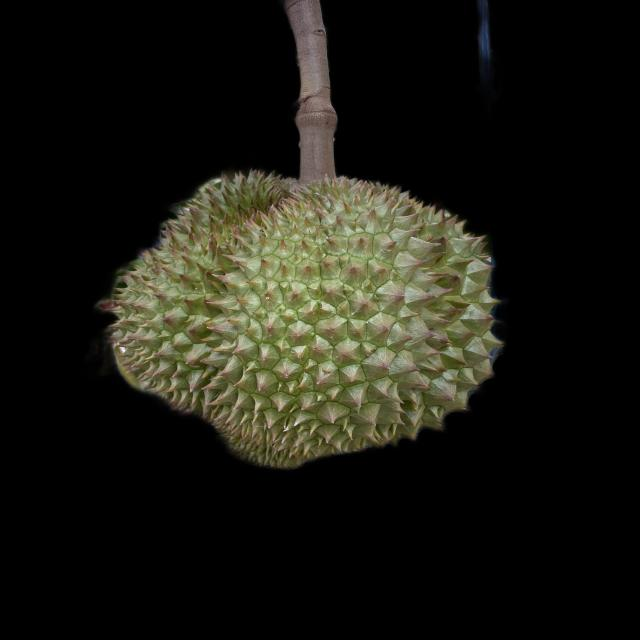immature: (108, 165, 502, 465)
